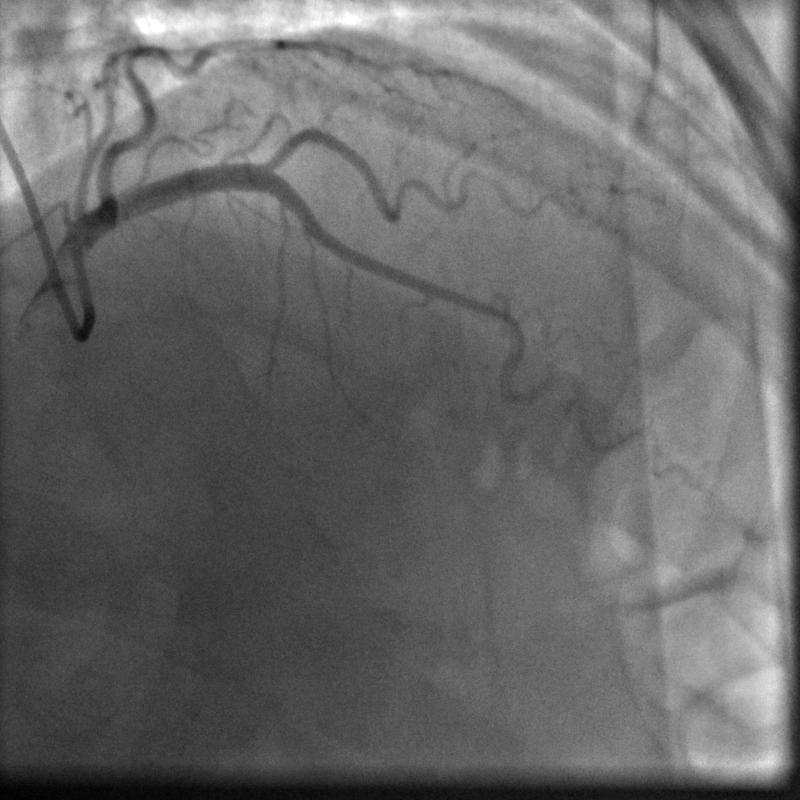Stenosis: (466, 294, 522, 335)
